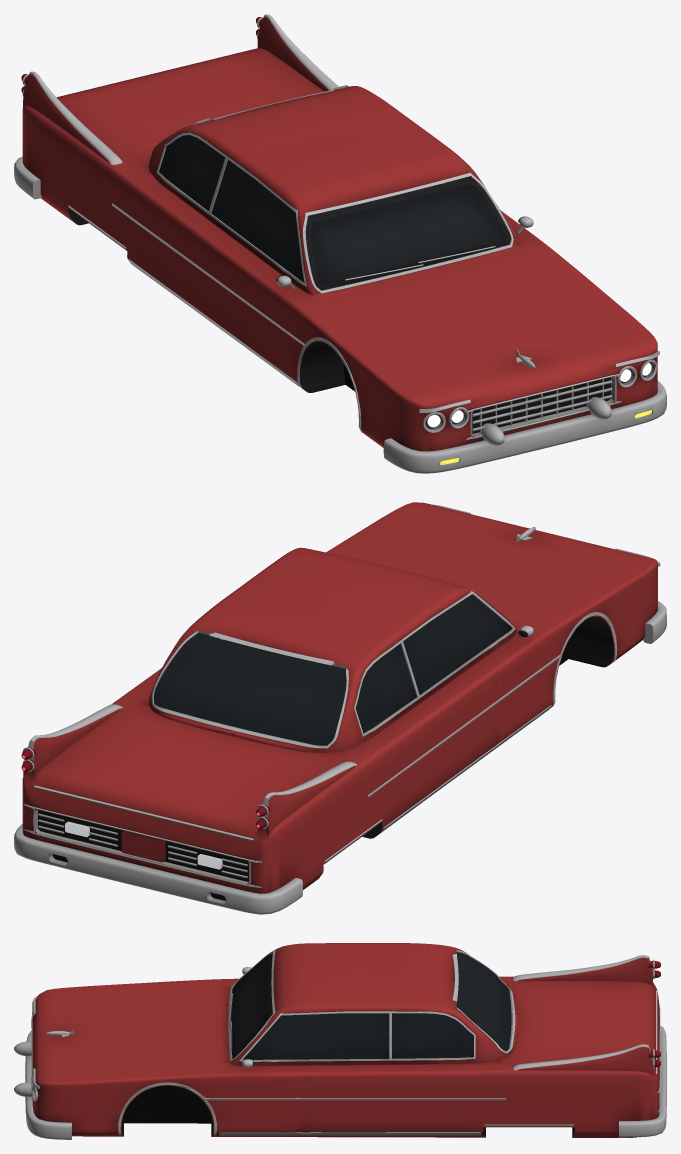
The model's file is jukebox.m.glb.
3 views of the same model, one above another, from view 1: azimuth 30°, elevation 25°; view 2: azimuth 150°, elevation 25°; view 3: azimuth 270°, elevation 25° (orthographic). The views are drawn at different scales.
Visible parts, largest first — view 1: paint_lodm, chrome_lodm, window_lodm, trim_lodm, grille_lodm; view 2: paint_lodm, window_lodm, chrome_lodm, grille_lodm, trim_lodm; view 3: paint_lodm, window_lodm, chrome_lodm, trim_lodm.
Part boxes in pixels (x1,y1,x2,y2): paint_lodm: [22, 17, 657, 451]; chrome_lodm: [14, 14, 666, 473]; window_lodm: [159, 135, 509, 290]; trim_lodm: [68, 176, 510, 392]; grille_lodm: [472, 377, 610, 433]; paint_lodm: [22, 502, 657, 893]; window_lodm: [153, 594, 511, 745]; chrome_lodm: [14, 504, 666, 914]; grille_lodm: [38, 809, 248, 881]; trim_lodm: [228, 616, 613, 838]; paint_lodm: [32, 943, 659, 1137]; window_lodm: [234, 952, 511, 1059]; chrome_lodm: [14, 949, 666, 1139]; trim_lodm: [121, 953, 636, 1137].
Size of what is drawn, in the model's own units: 2.12 by 1.16 by 5.69.
